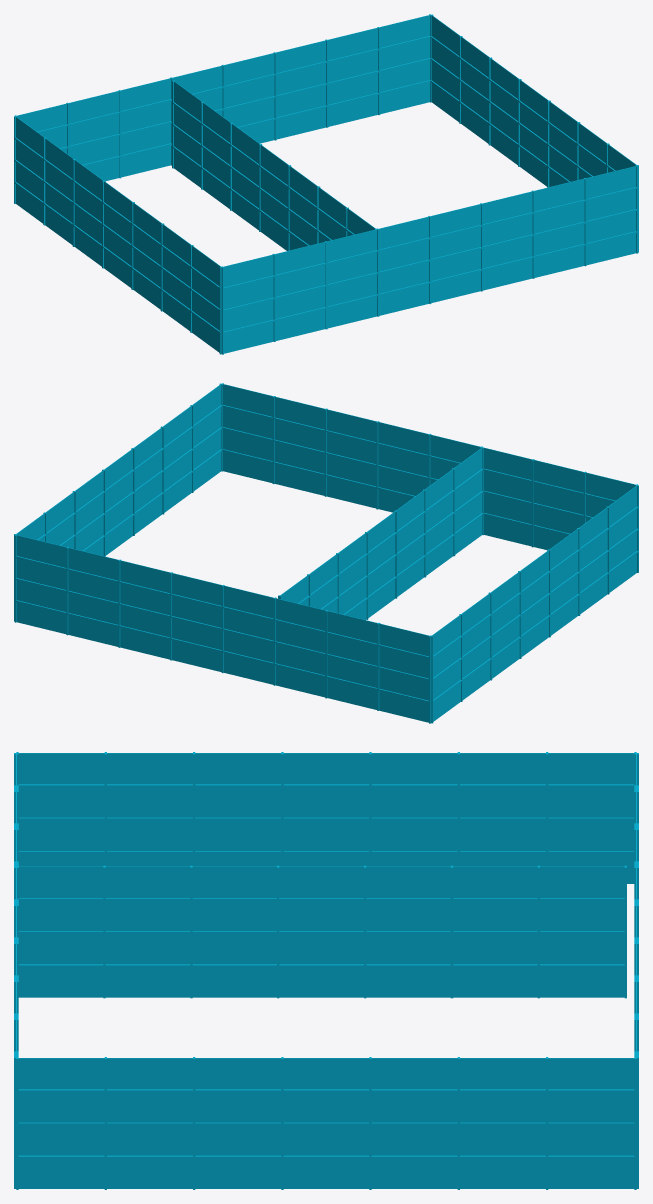
Rendered from model-part.gltf_curtainwalls_Nivel 2.gltf.
3 views of the same model, one above another, from view 1: azimuth 30°, elevation 25°; view 2: azimuth 150°, elevation 25°; view 3: azimuth 270°, elevation 25° (orthographic). The views are drawn at different scales.
Bounding box in the file's own units: 15.11 × 3 × 13.
